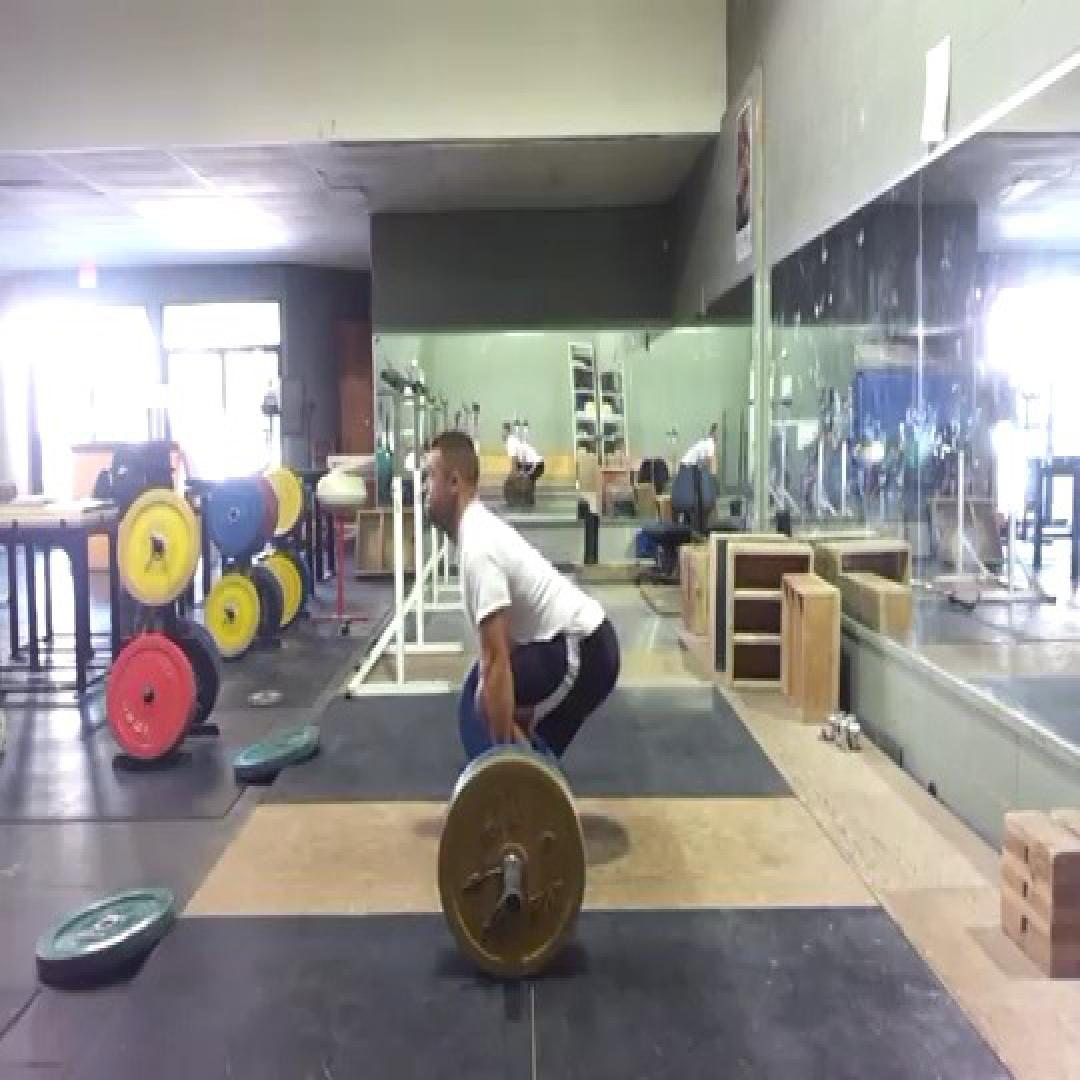Bar: (502, 885, 524, 918)
Barbell: (438, 759, 586, 975)
